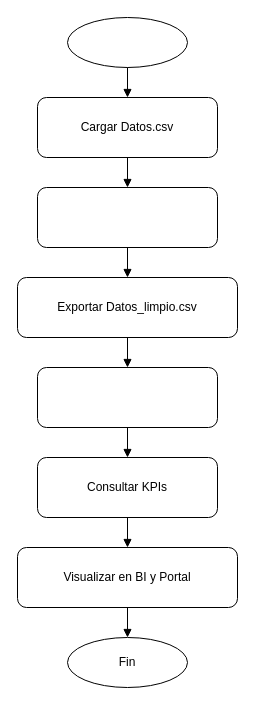
The diagram is 255 pixels wide and 705 high, and some of its shapes have lost their labels. Each missing label, with the centre of its shape:
"Cargar a BD" goes at point 127,397.
"Inicio" goes at point 127,42.
"Limpiar y Normalizar" goes at point 127,217.
